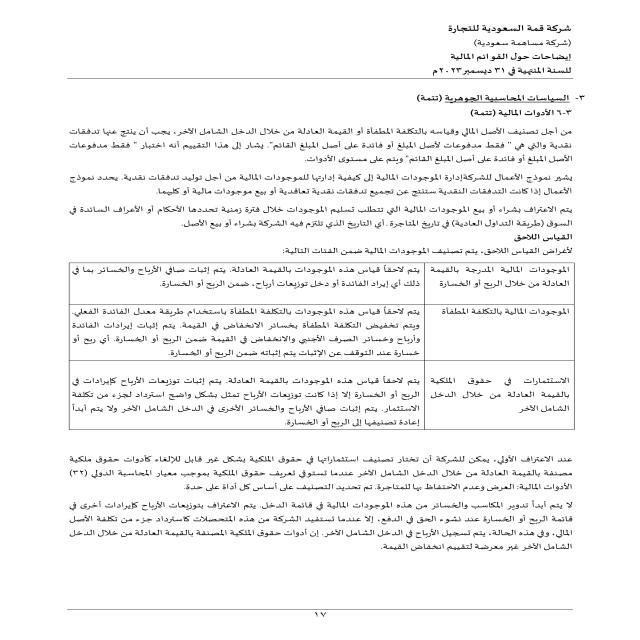notes: (425, 51, 576, 62)
table: (35, 258, 590, 442)
